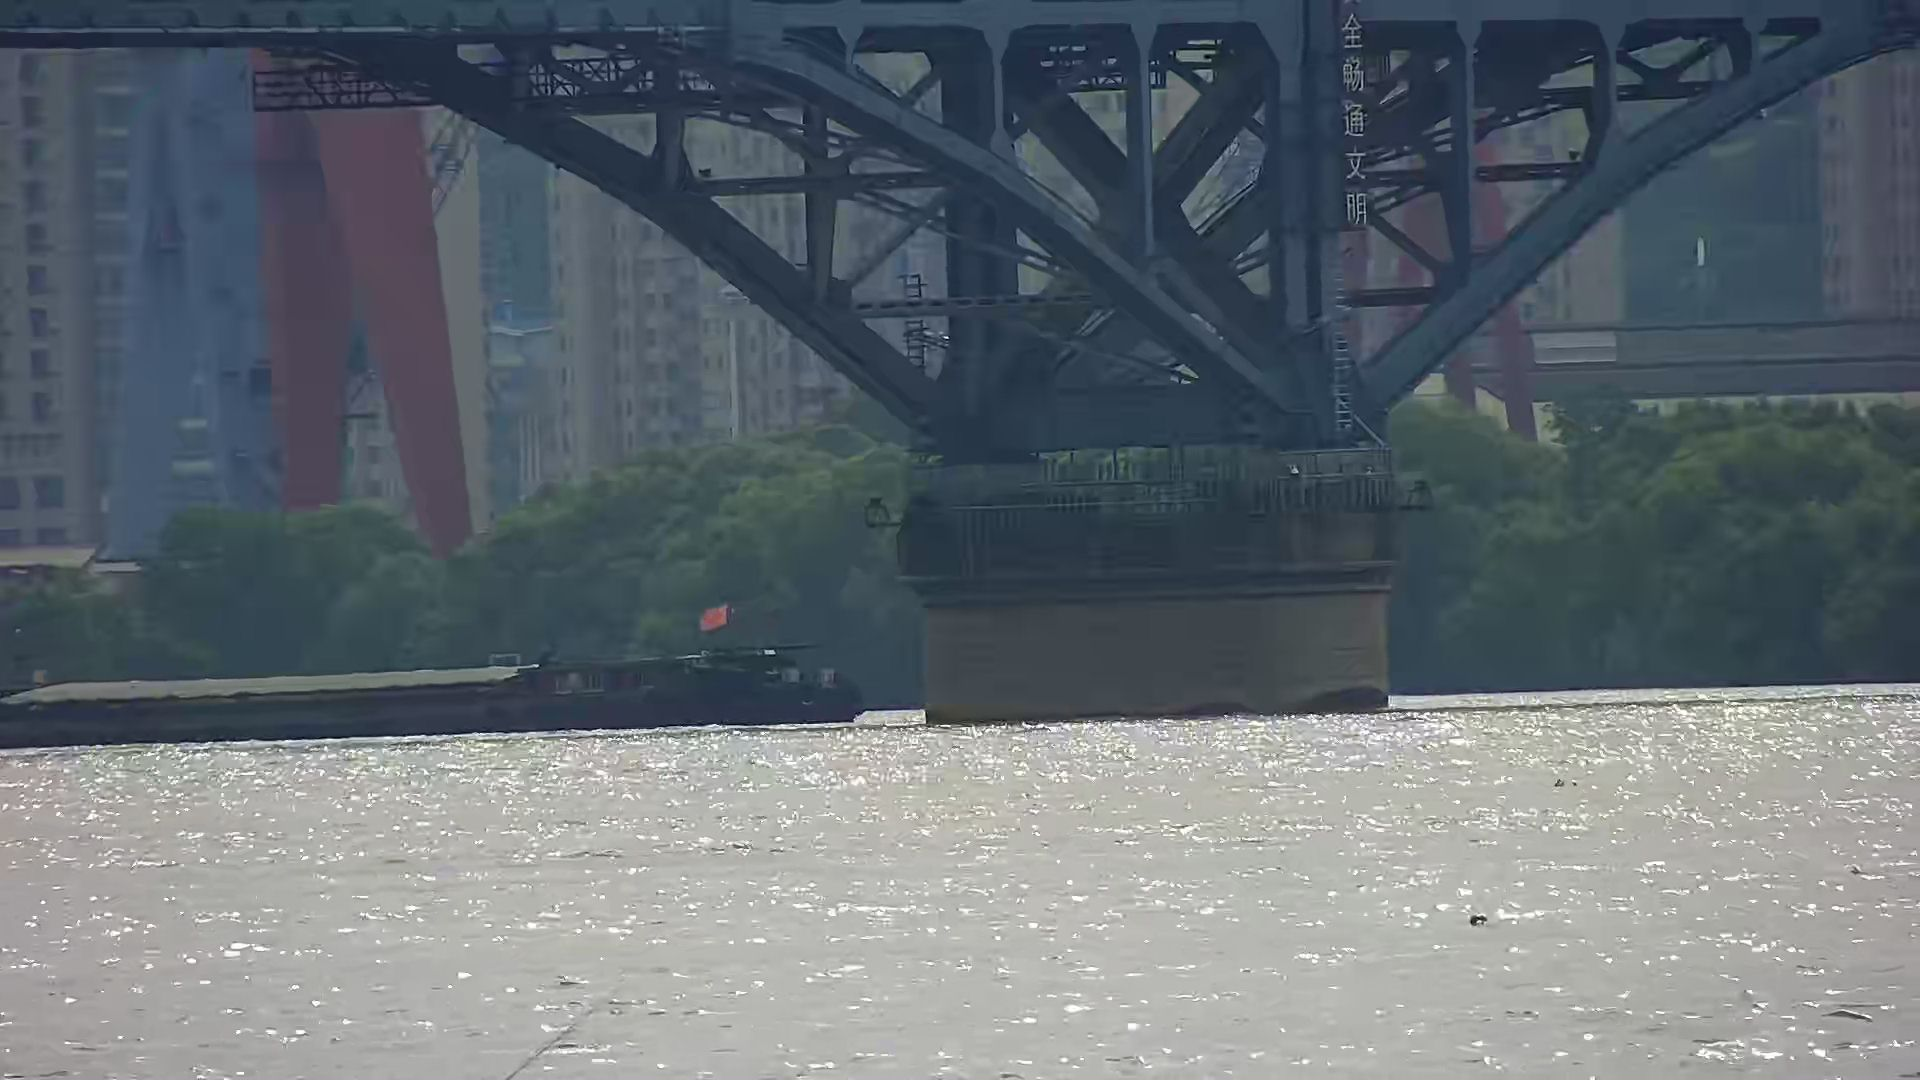bridge: (1, 3, 1920, 723)
ship: (3, 603, 861, 750)
